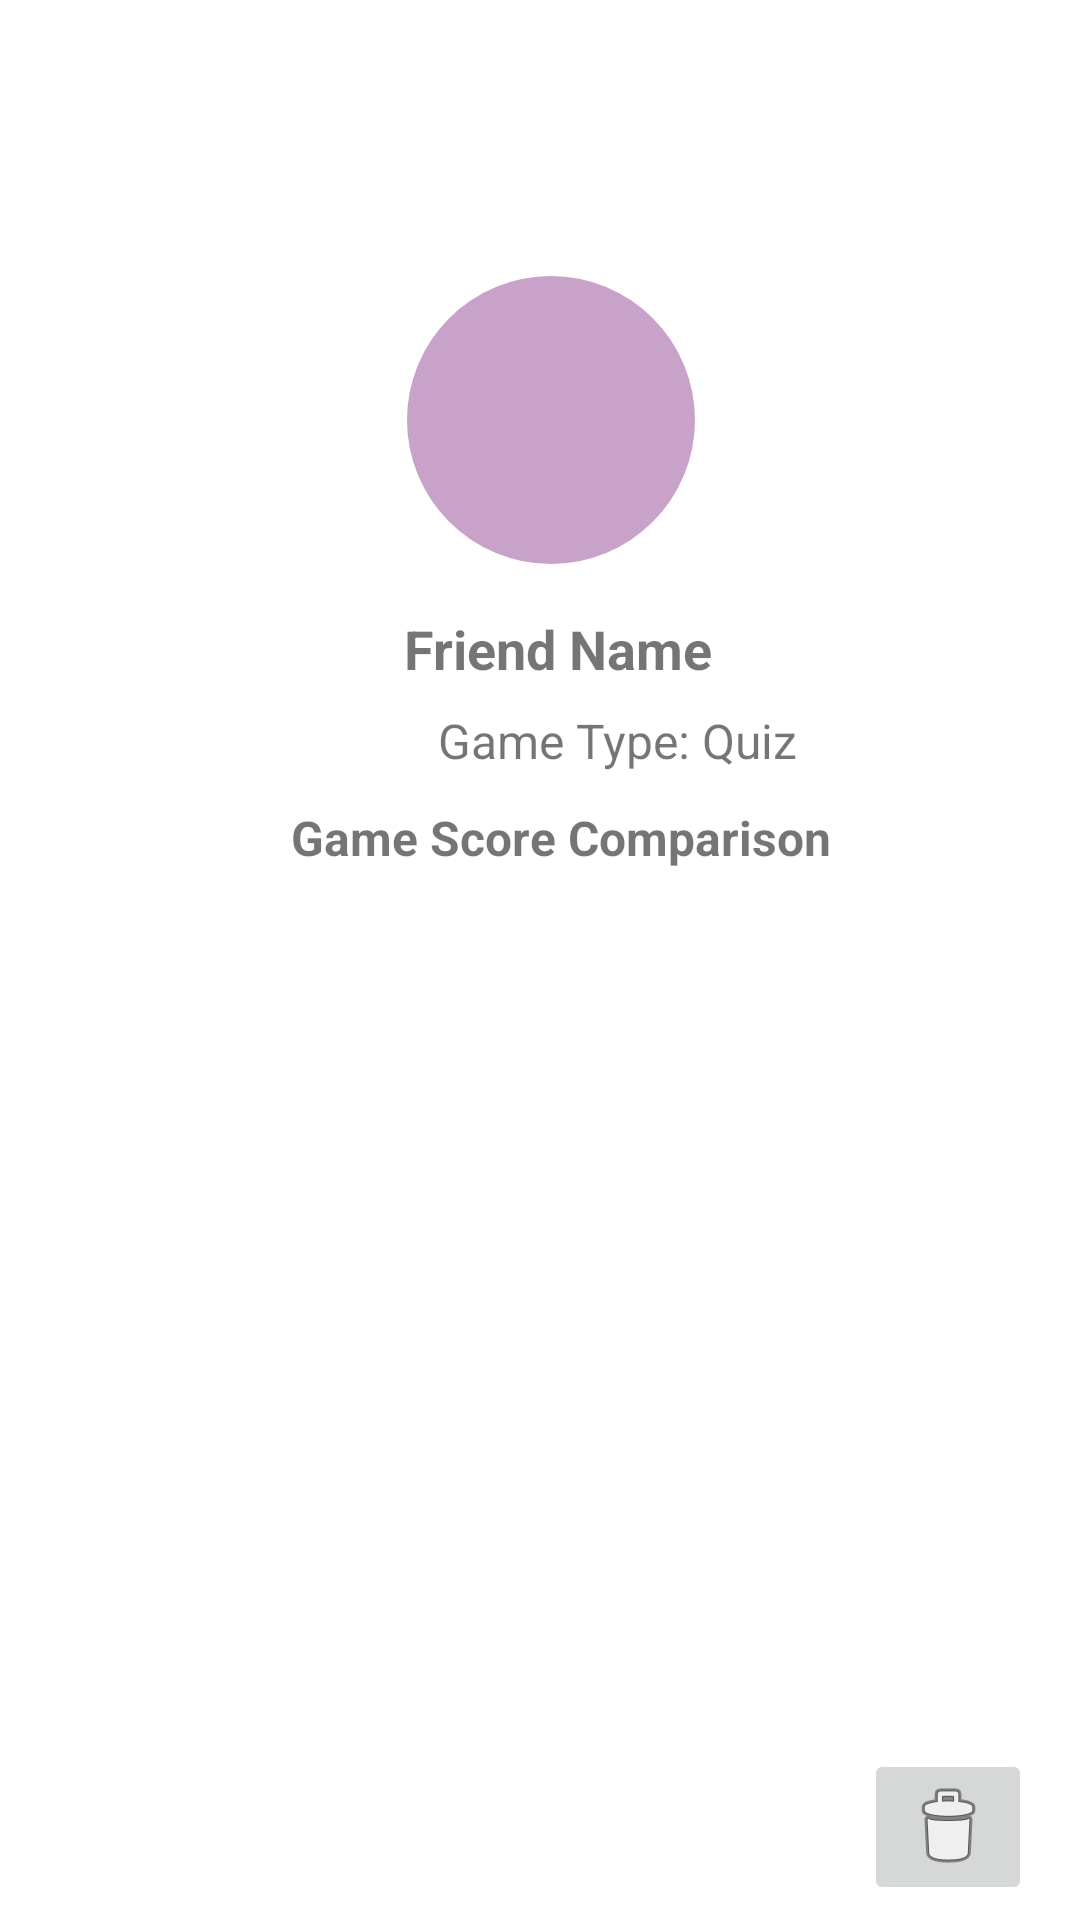

Icons on this 1080px x 1920px Android screen, each with its box as (x1=x1, y1=y1, x2=x2, y2=y2):
delete: (x1=876, y1=1767, x2=1020, y2=1887)
